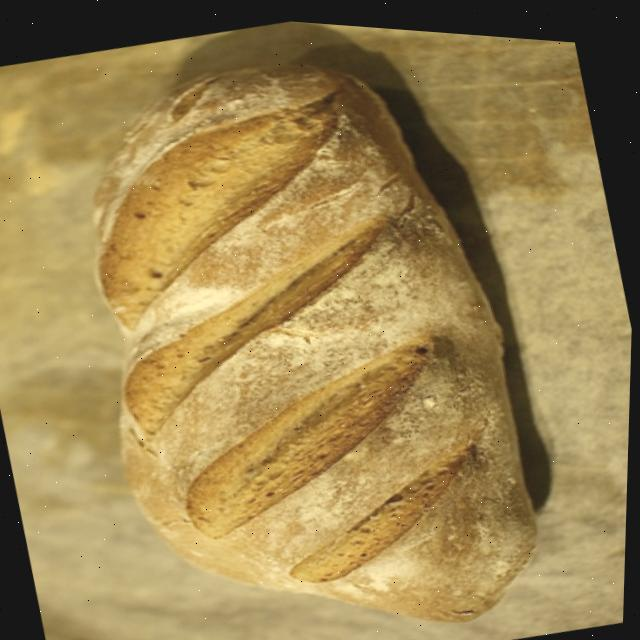面包点心: (8, 1, 604, 640)
